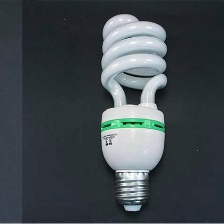light_bulb: (92, 6, 173, 217)
